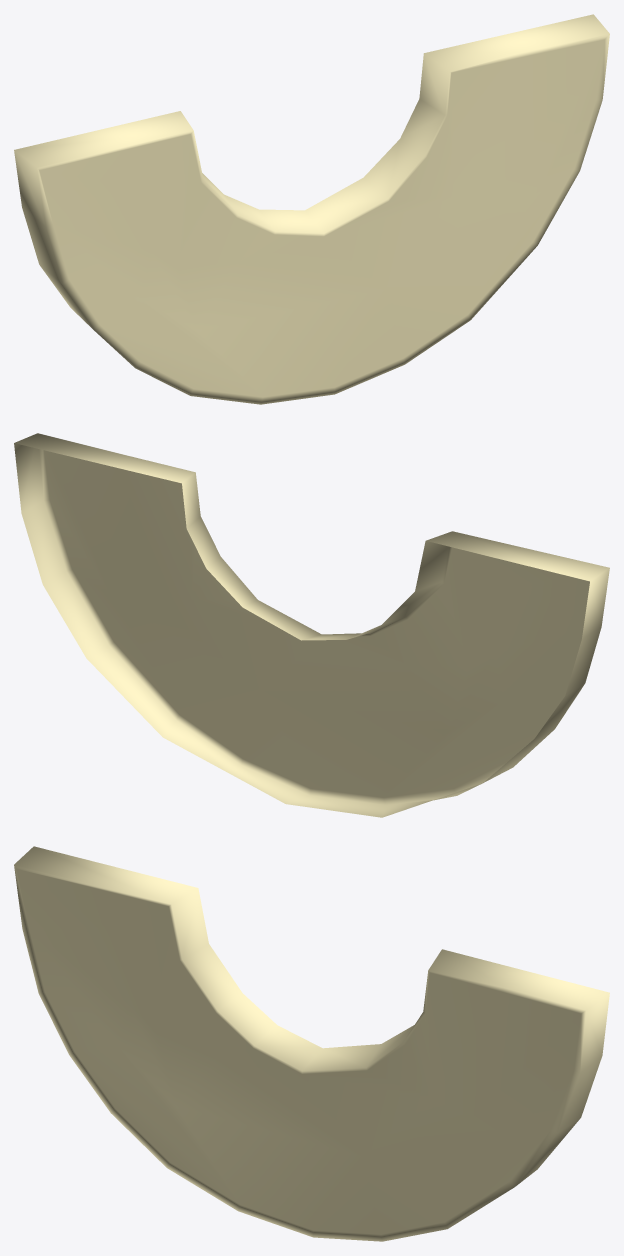
File: ui_radialMenu_2_bot.glb
3 views of the same model, one above another, from view 1: azimuth 30°, elevation 25°; view 2: azimuth 150°, elevation 25°; view 3: azimuth 330°, elevation 25° (orthographic).
Parts seen in each view (by area): view 1: main2_bot; view 2: main2_bot; view 3: main2_bot.
Boxes of the visible parts, x1=… form: main2_bot: x1=14, y1=14, x2=609, y2=404; main2_bot: x1=14, y1=433, x2=609, y2=817; main2_bot: x1=14, y1=846, x2=609, y2=1241.
Size of the model in its own units: 1.99 by 0.9963 by 0.1341.
